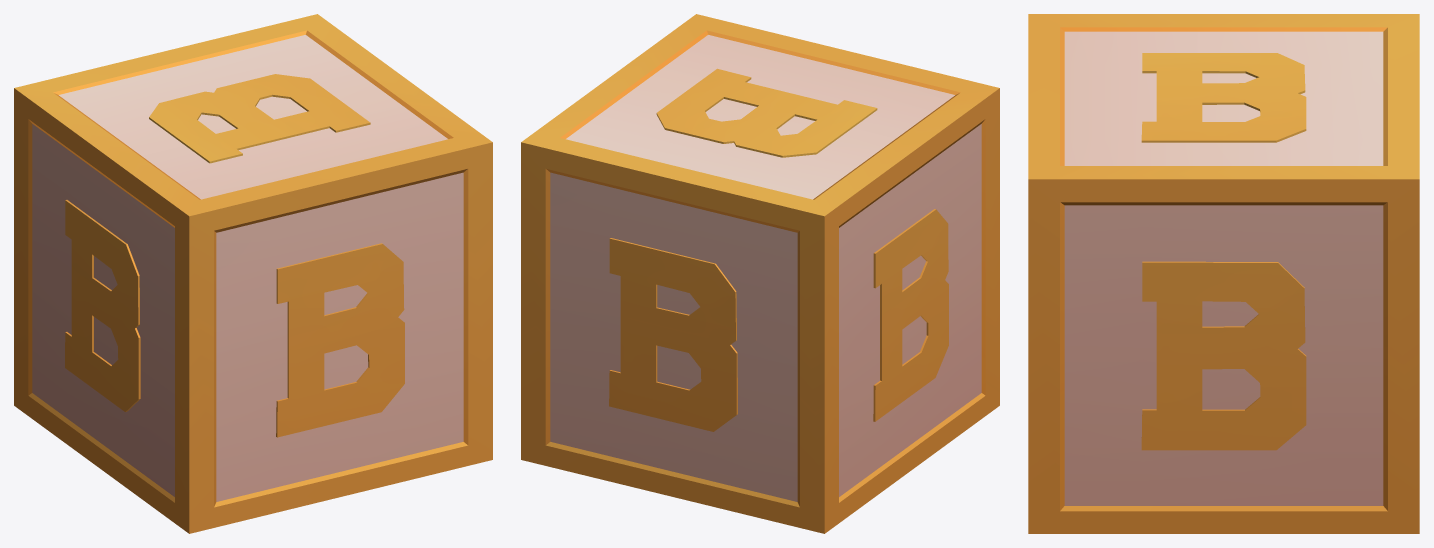
Rendered from Doll_OB_Blocks_002.FBX.
The picture shows the model from 3 angles, left to right: view 1: azimuth 30°, elevation 25°; view 2: azimuth 150°, elevation 25°; view 3: azimuth 270°, elevation 25°; orthographic projection. The views are drawn at different scales.
Visible parts, largest first — view 1: Doll_OB_Blocks_002; view 2: Doll_OB_Blocks_002; view 3: Doll_OB_Blocks_002.
Part boxes in pixels (x1,y1,x2,y2): Doll_OB_Blocks_002: (14, 14, 492, 533); Doll_OB_Blocks_002: (521, 14, 999, 533); Doll_OB_Blocks_002: (1028, 14, 1419, 533).
Size of the model in its own units: 20.66 by 20.66 by 20.66.
